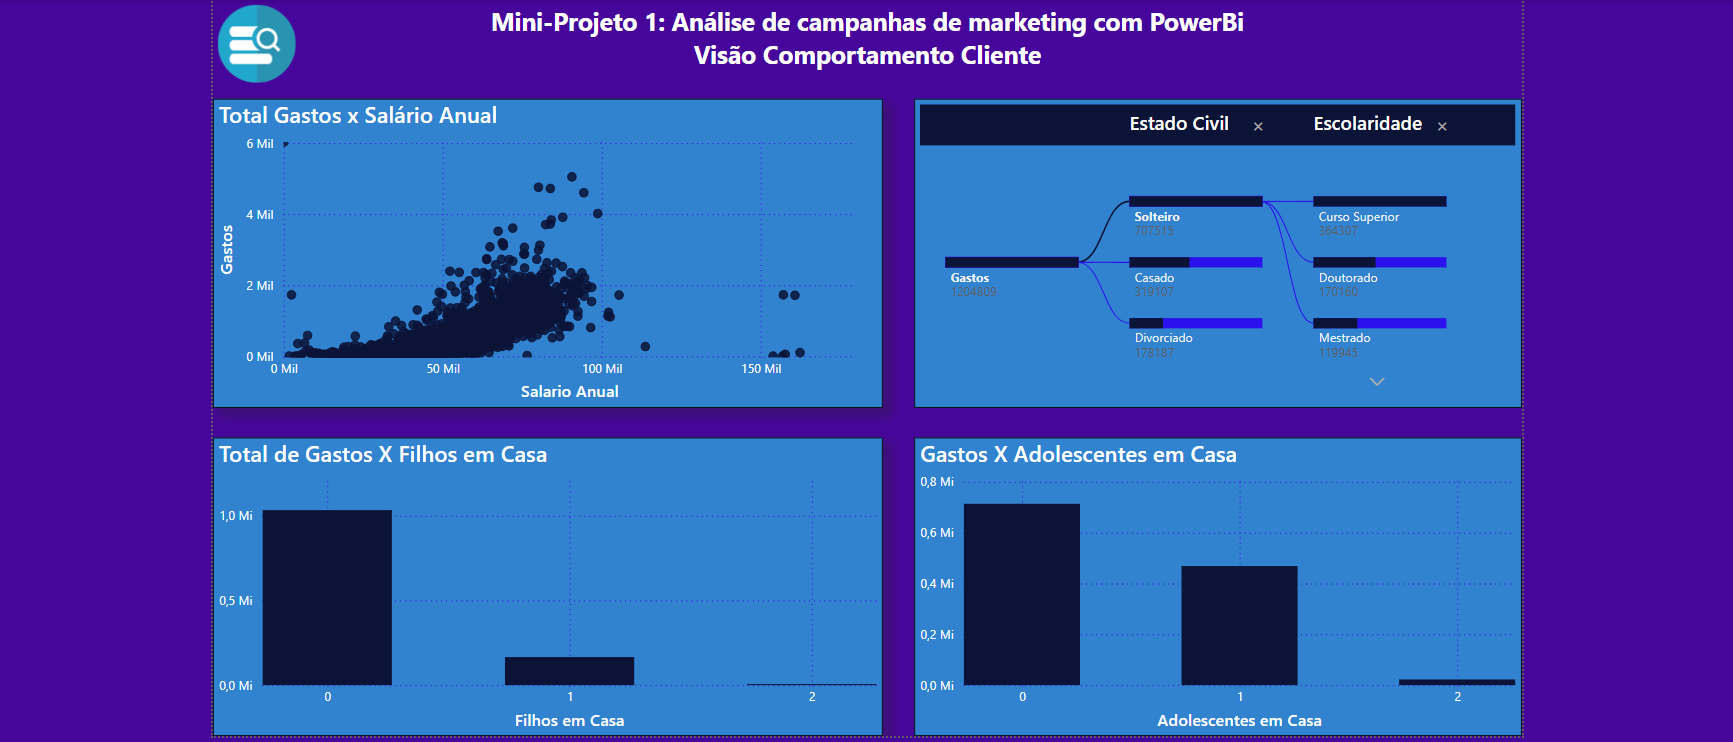

What the dashboard file says about the page in this screenshot:
{"tool":"powerbi","page":{"name":"Visão Comportamento","canvas":[1280,720],"ordinal":1},"visuals":[{"type":"textbox","box":[0,0,1280.3,106.4],"z":0},{"type":"image","box":[0,0,85.6,85.6],"z":1000},{"type":"scatterChart","title":"Total Gastos x Salário Anual","fields":{"X":["Dados Marketing.Salario Anual"],"Y":["Dados Marketing.Gastos"]},"box":[0,96.6,655.4,302],"z":2000},{"type":"clusteredColumnChart","title":"Total de Gastos X Filhos em Casa","fields":{"Category":["Dados Marketing.Filhos em Casa"],"Y":["Dados Marketing.Gastos"]},"box":[0,428,655.4,292.3],"z":3000},{"type":"clusteredColumnChart","title":"Gastos X Adolescentes em Casa","fields":{"Y":["Dados Marketing.Gastos"],"Category":["Dados Marketing.Adolescentes em Casa"]},"box":[686,428,594.3,292.3],"z":4000},{"type":"decompositionTreeVisual","fields":{"Analyze":["Dados Marketing.Gastos"],"ExplainBy":["Dados Marketing.Estado Civil","Dados Marketing.Escolaridade"]},"box":[686,96.6,594.3,302],"z":5000}]}

Visuals, with their boxes on the page's 1280x720 design canvas (x1, y1, x2, y2). These are canvas units, not pixel positions in the 1733x742 screenshot, which may show the page scaled, cropped or inside an application window:
textbox: Rect(0, 0, 1280, 106)
image: Rect(0, 0, 86, 86)
"Total Gastos x Salário Anual" scatterChart: Rect(0, 97, 655, 399)
"Total de Gastos X Filhos em Casa" clusteredColumnChart: Rect(0, 428, 655, 720)
"Gastos X Adolescentes em Casa" clusteredColumnChart: Rect(686, 428, 1280, 720)
decompositionTreeVisual - Dados Marketing.Gastos x Dados Marketing.Estado Civil: Rect(686, 97, 1280, 399)
